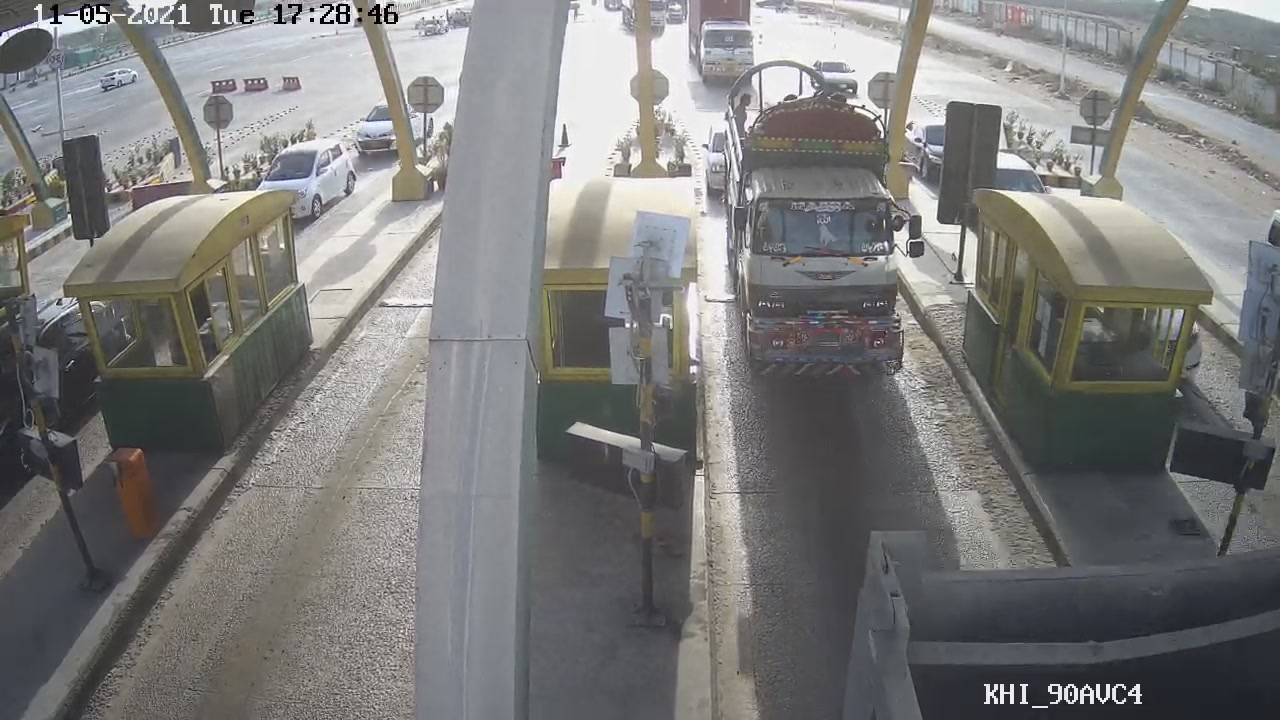F5: (717, 78, 935, 383)
